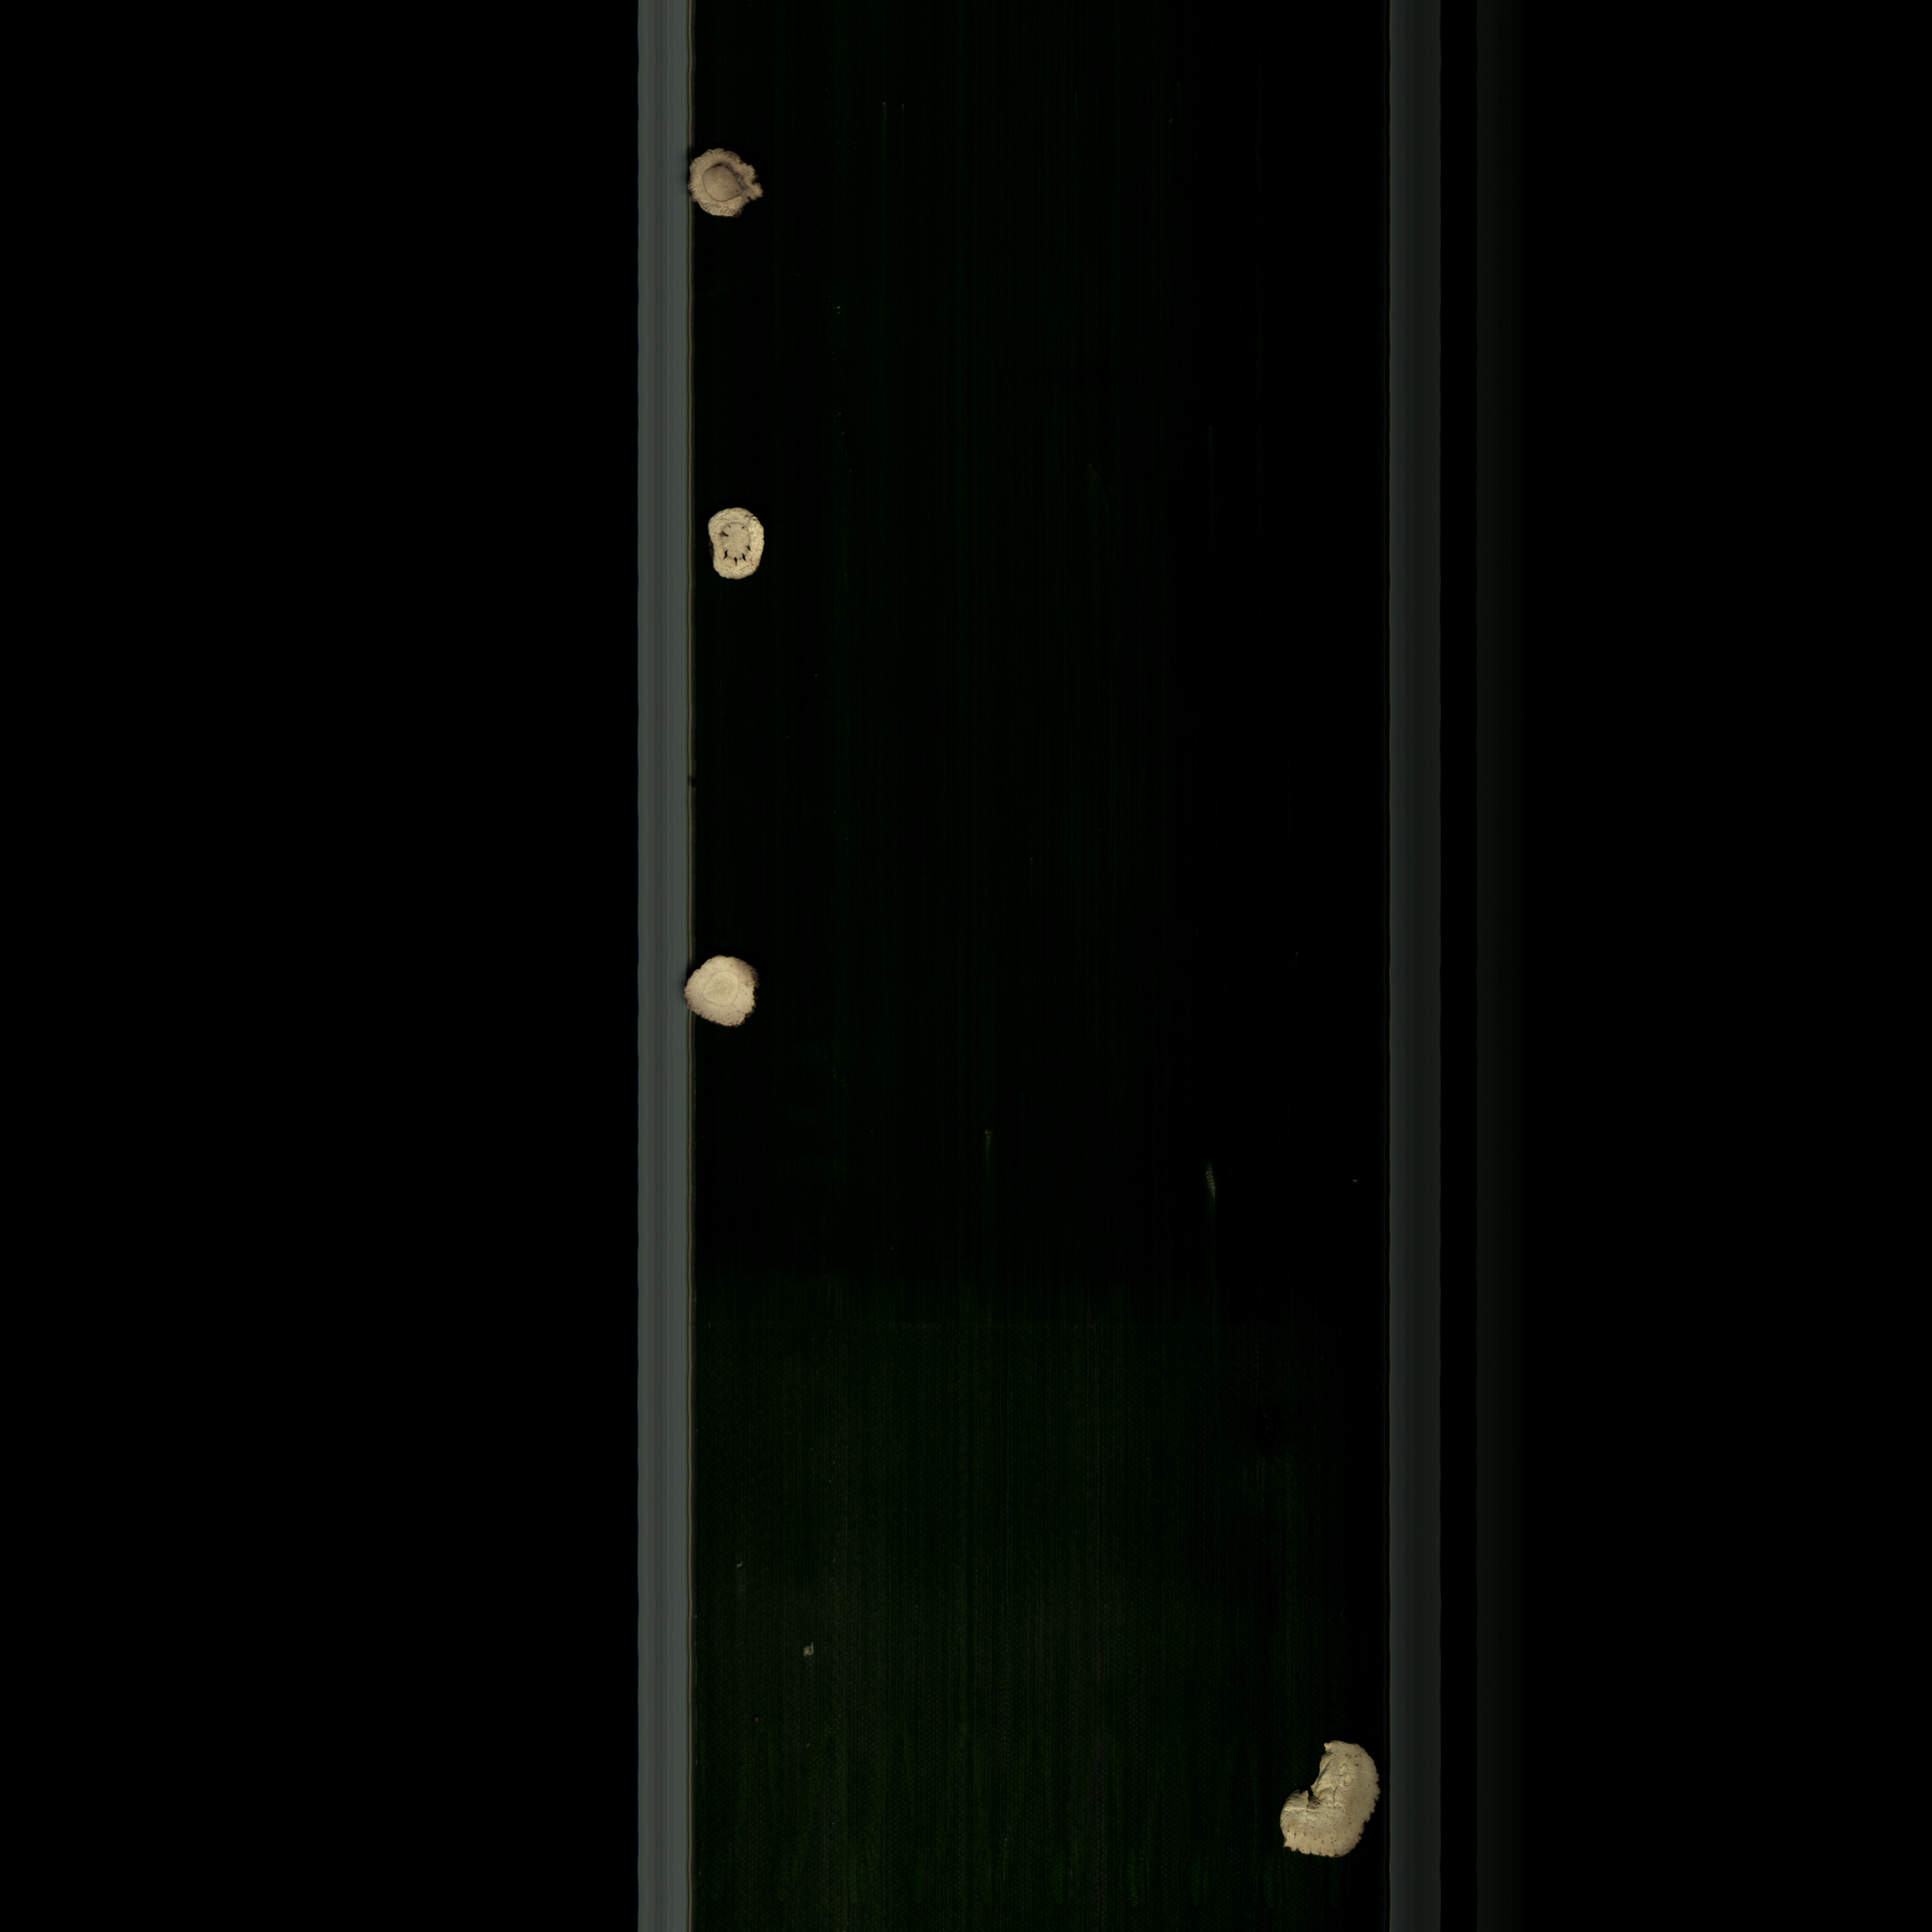debris: (1288, 1741, 1380, 1859)
hole: (695, 488, 777, 591)
moldy: (681, 149, 777, 239)
